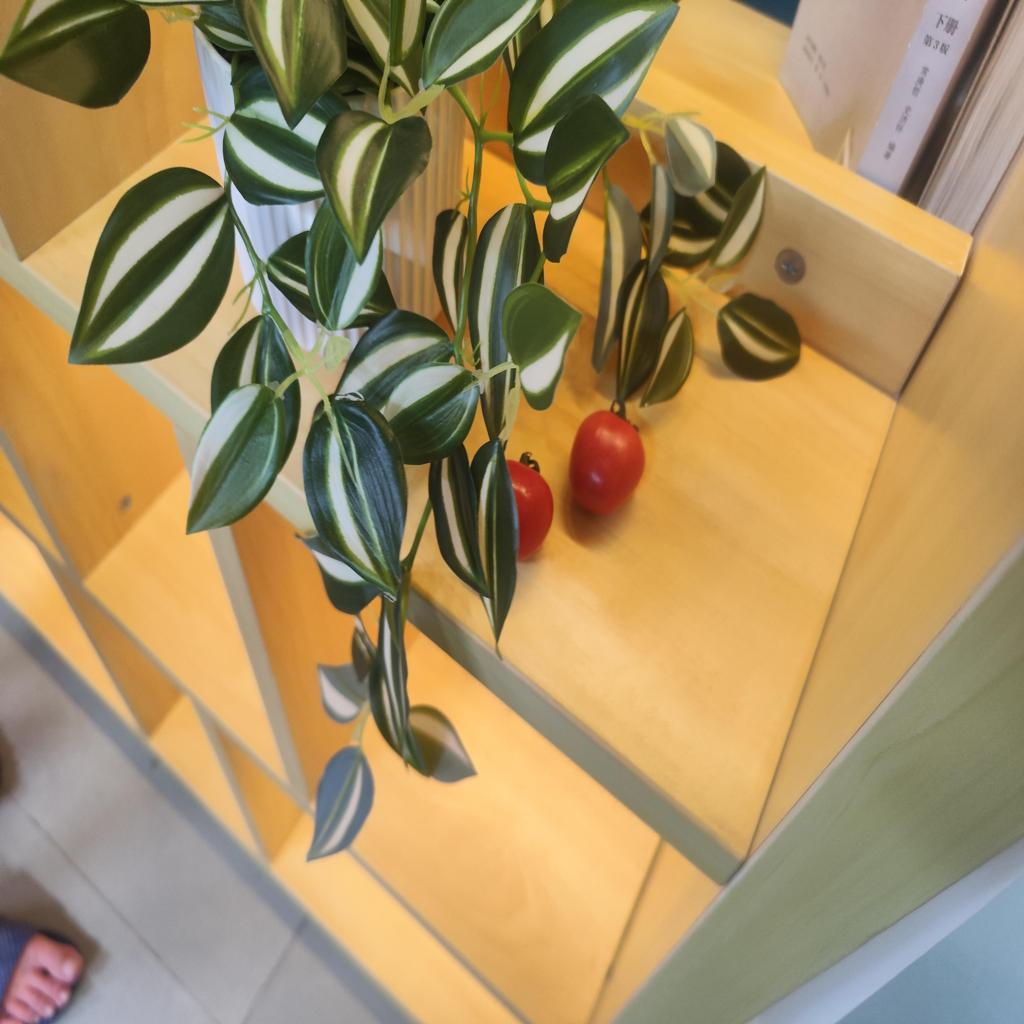tomato: (575, 404, 647, 525), (492, 452, 557, 563)
